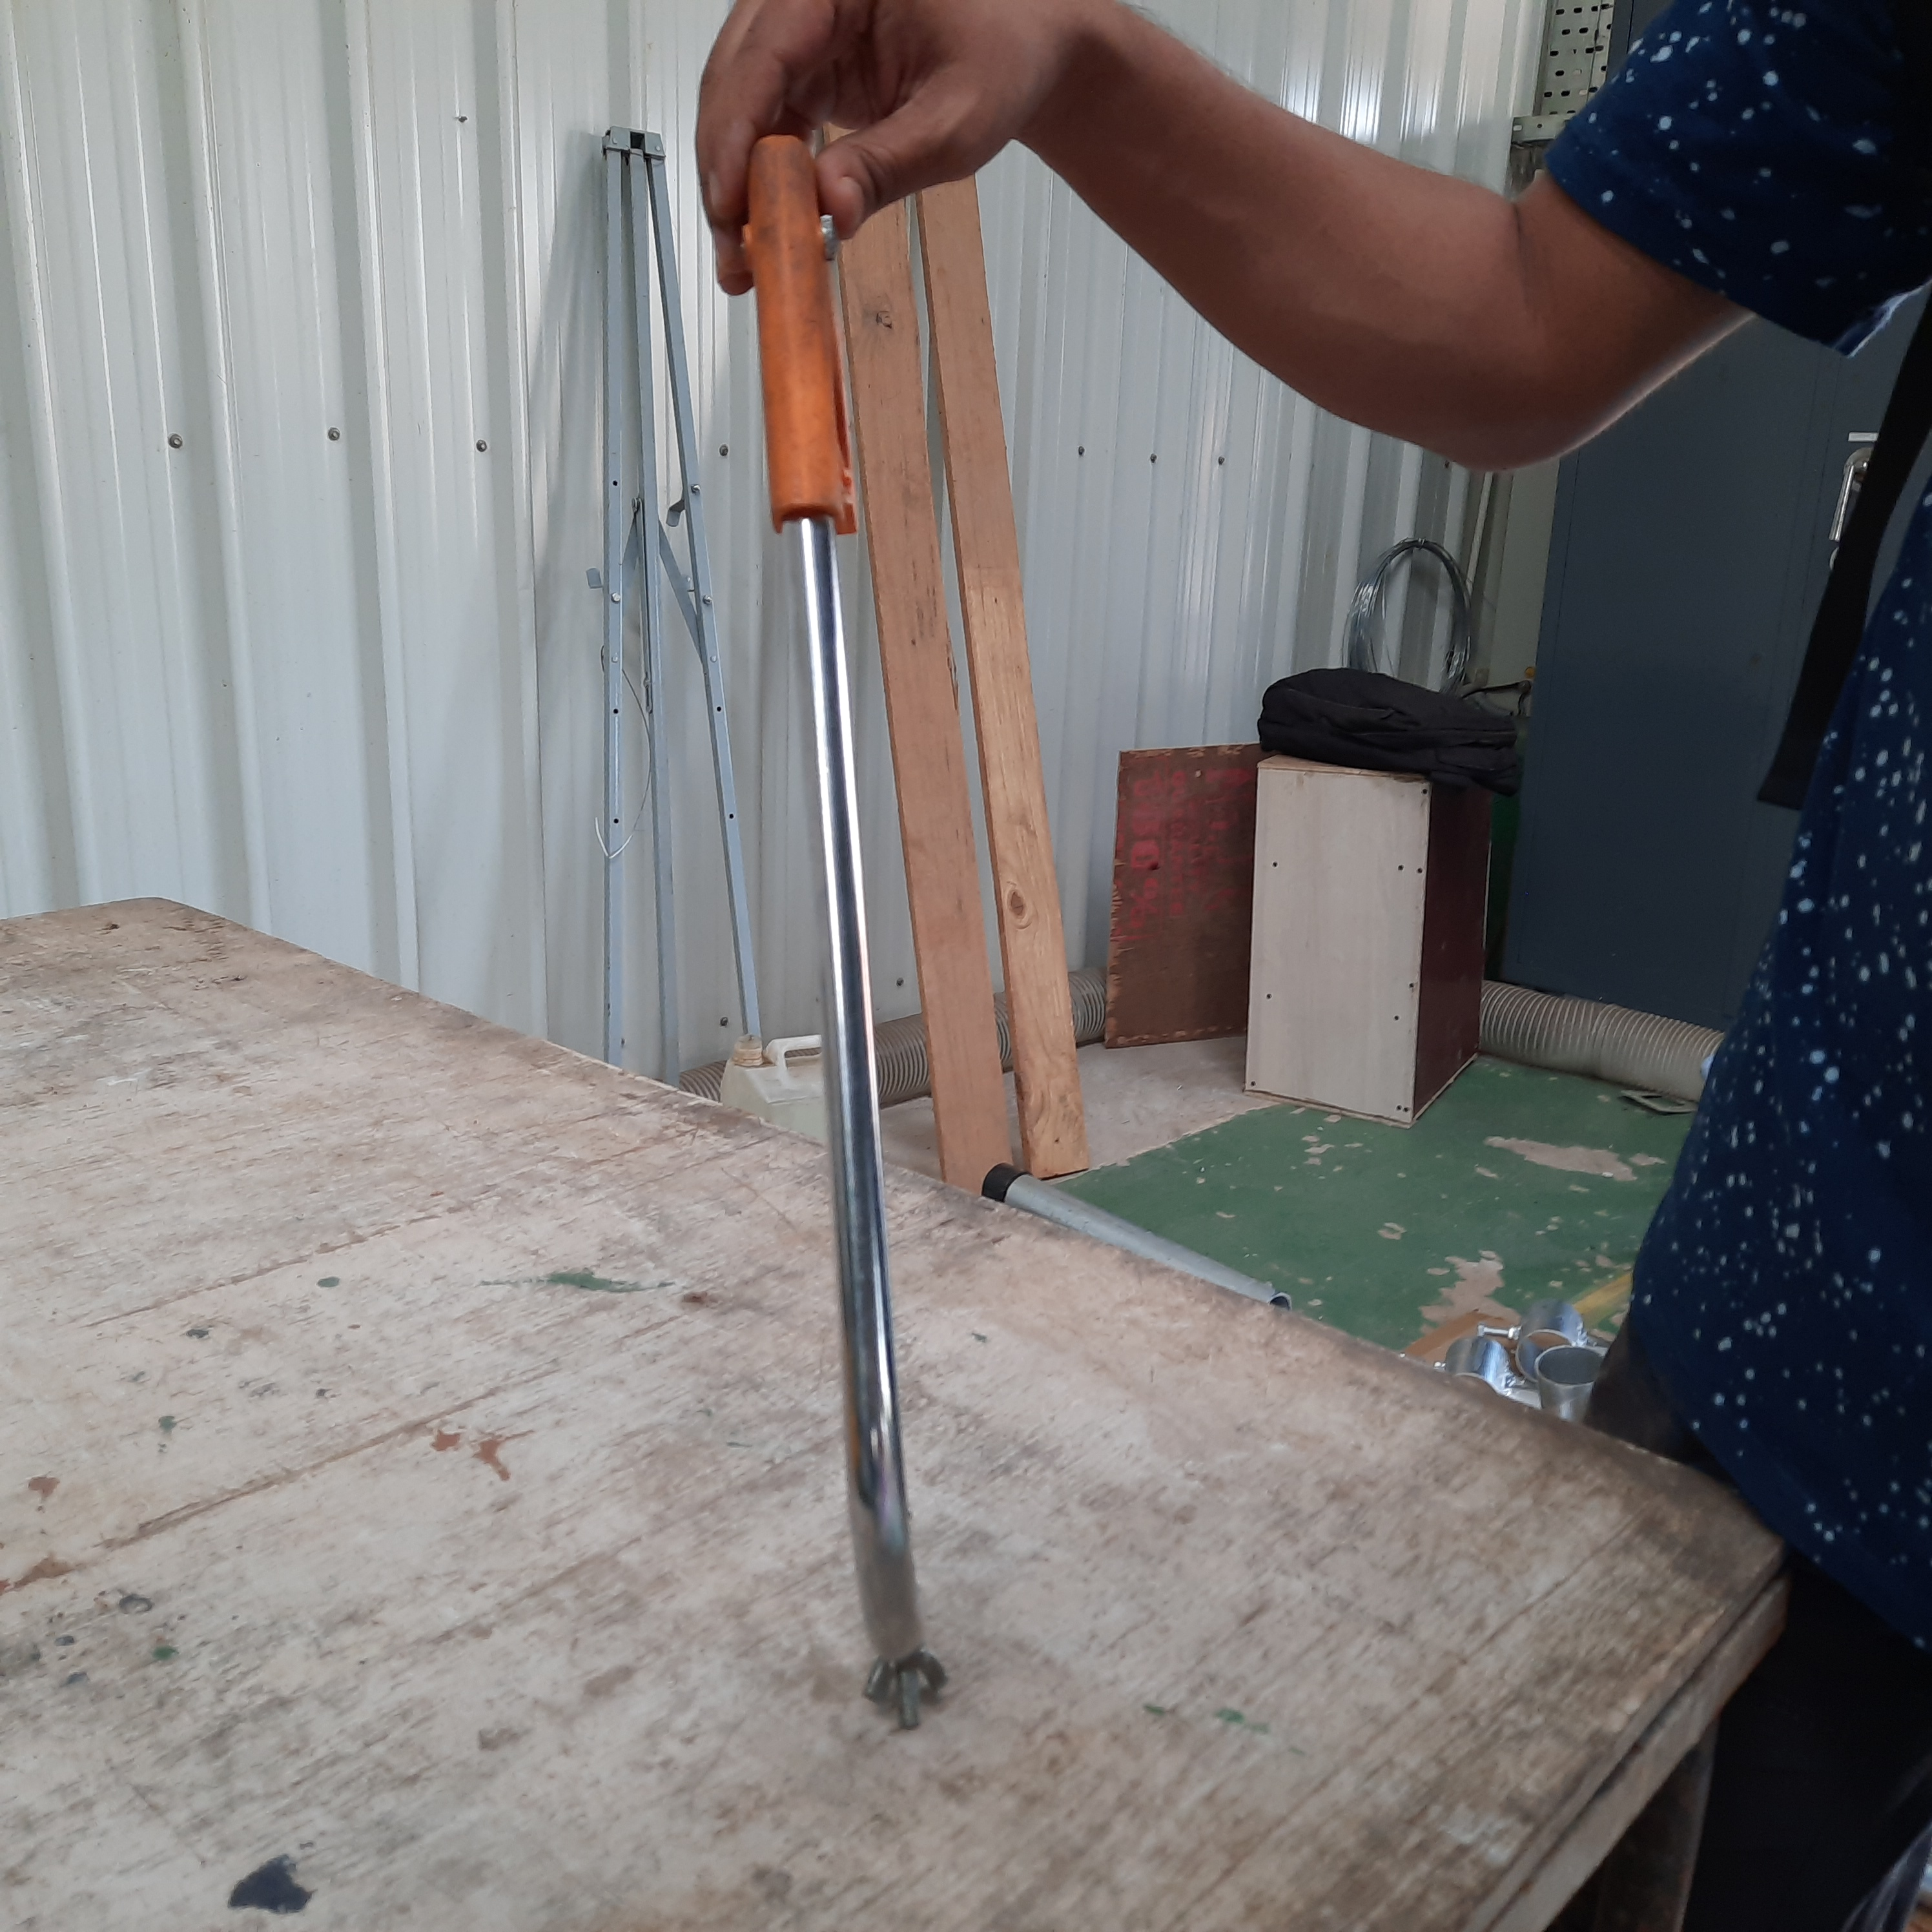Hexaframe: (688, 110, 1067, 1759)
